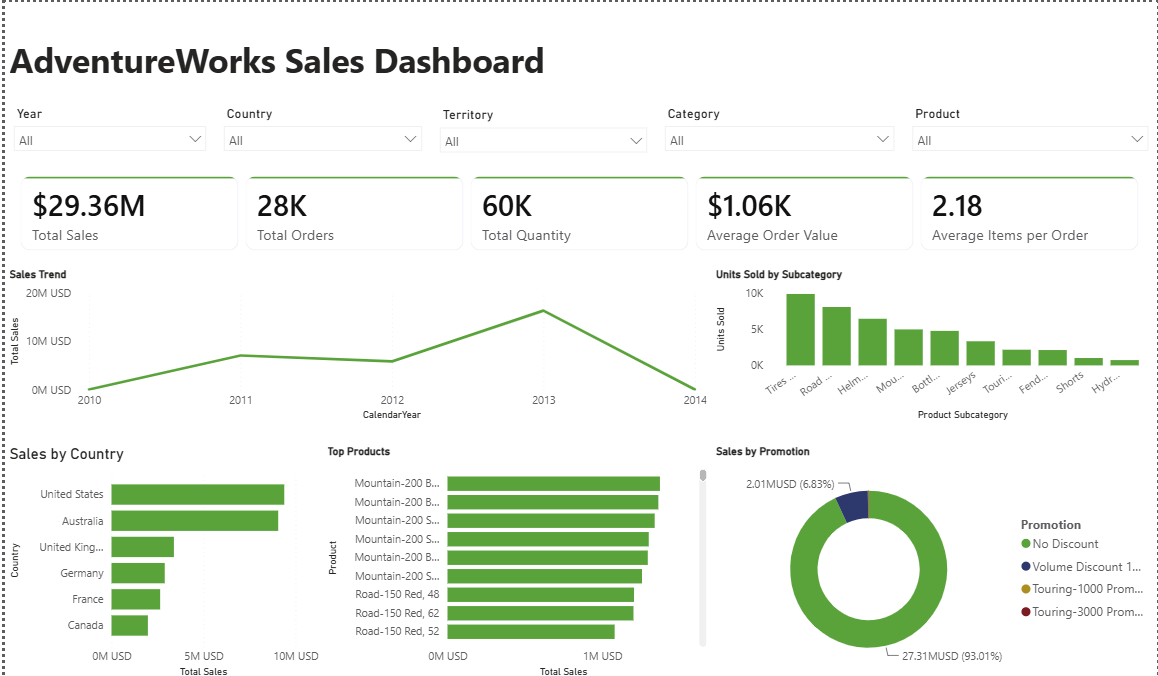

What the dashboard file says about the page in this screenshot:
{"tool":"powerbi","page":{"name":"Sales Dashboard","canvas":[1280,720],"ordinal":0},"visuals":[{"type":"textbox","box":[0,0,1278.4,67.1],"z":0},{"type":"cardVisual","fields":{"Data":["_Measures.Total Sales","_Measures.Total Orders","_Measures.Total Quantity","_Measures.Average Order Value","_Measures.Average Items per Order"]},"box":[0,144.1,1280.3,116.8],"z":1000},{"type":"slicer","fields":{"Values":["DimDate.Calendar.CalendarYear"]},"box":[0,77.4,233.6,65.2],"z":2000},{"type":"slicer","fields":{"Values":["DimProduct.EnglishProductName"]},"box":[998.1,77.4,282.1,65.2],"z":3000},{"type":"slicer","fields":{"Values":["FactSurveyResponse.EnglishProductCategoryName"]},"box":[723.6,77.4,274.6,65.2],"z":4000},{"type":"slicer","title":"Country","fields":{"Values":["DimGeography.EnglishCountryRegionName"]},"box":[233.6,77.4,239.7,65.2],"z":5000},{"type":"slicer","fields":{"Values":["DimSalesTerritory.SalesTerritoryGroup"]},"box":[473.3,78.9,250.3,65.2],"z":6000},{"type":"lineChart","title":"Sales Trend","fields":{"Category":["DimDate.Calendar.CalendarYear"],"Y":["_Measures.Total Sales"]},"box":[0,260.9,784.2,174.4],"z":7000},{"type":"clusteredColumnChart","title":"Sales by Category","fields":{"Category":["FactSurveyResponse.EnglishProductCategoryName"],"Y":["_Measures.Total Sales"]},"box":[784.2,260.9,496,174.4],"z":8000},{"type":"barChart","title":"Top Products","fields":{"Category":["DimProduct.EnglishProductName"],"Y":["_Measures.Total Sales"]},"box":[353.4,458.1,430.8,262.4],"z":9000},{"type":"donutChart","title":"Sales by Promotion","fields":{"Category":["DimPromotion.EnglishPromotionName"],"Y":["_Measures.Total Sales"]},"box":[784.2,458.1,494.5,262.4],"z":10000},{"type":"barChart","title":"Sales by Country","fields":{"Category":["DimGeography.EnglishCountryRegionName"],"Y":["_Measures.Total Sales"]},"box":[0,458.1,353.4,262.4],"z":11000}]}

Visuals, with their boxes on the page's 1280x720 design canvas (x1, y1, x2, y2). These are canvas units, not pixel positions in the 1158x676 screenshot, which may show the page scaled, cropped or inside an application window:
textbox: region(0, 0, 1278, 67)
cardVisual - _Measures.Total Sales x _Measures.Total Orders: region(0, 144, 1280, 261)
slicer - DimDate.Calendar.CalendarYear: region(0, 77, 234, 143)
slicer - DimProduct.EnglishProductName: region(998, 77, 1280, 143)
slicer - FactSurveyResponse.EnglishProductCategoryName: region(724, 77, 998, 143)
"Country" slicer: region(234, 77, 473, 143)
slicer - DimSalesTerritory.SalesTerritoryGroup: region(473, 79, 724, 144)
"Sales Trend" lineChart: region(0, 261, 784, 435)
"Sales by Category" clusteredColumnChart: region(784, 261, 1280, 435)
"Top Products" barChart: region(353, 458, 784, 720)
"Sales by Promotion" donutChart: region(784, 458, 1279, 720)
"Sales by Country" barChart: region(0, 458, 353, 720)
